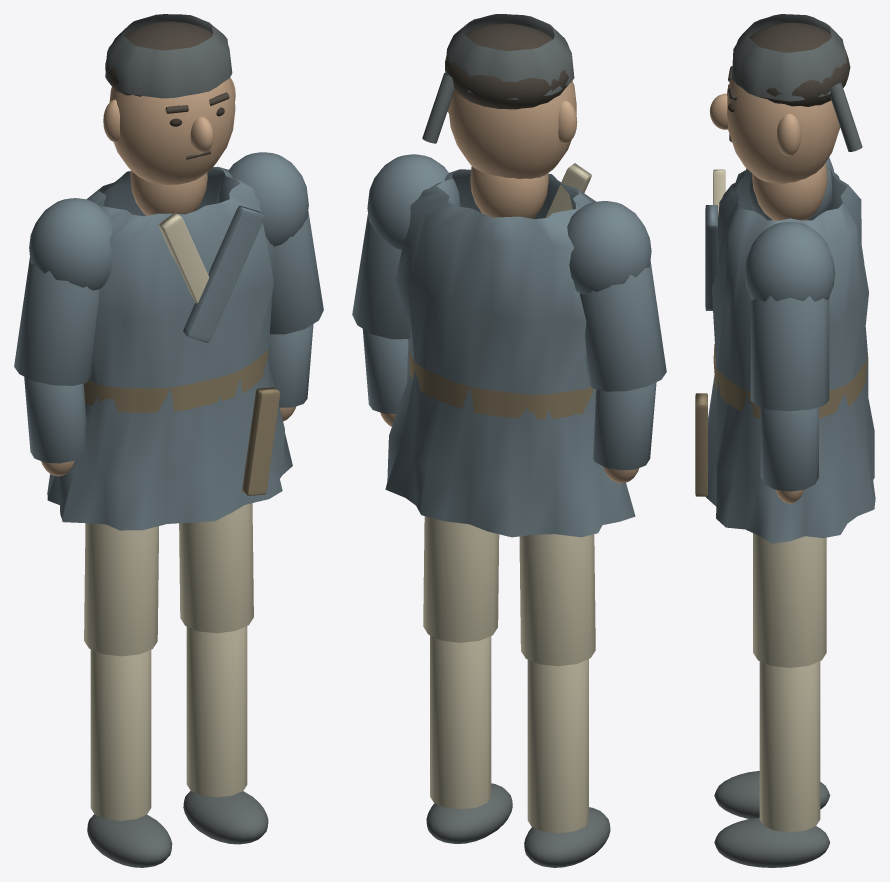
The model's file is man.glb.
The picture shows the model from 3 angles, left to right: view 1: azimuth 30°, elevation 25°; view 2: azimuth 150°, elevation 25°; view 3: azimuth 270°, elevation 25°; orthographic projection.
Visible parts, largest first — view 1: Cross-collar working coat, shin, shin.001, thigh, thigh.001, Face, upper, Soft cloth cap, Shoulder, Shoulder.001, fore, upper.001 (+10 smaller); view 2: Cross-collar working coat, shin, shin.001, thigh, thigh.001, upper, Face, Shoulder, Soft cloth cap, Hair crown, Shoulder.001, fore (+9 smaller); view 3: Cross-collar working coat, shin.001, thigh.001, upper.001, Face, Shoulder.001, Soft cloth cap, fore.001, Cloth shoe.001, Hair crown, Neck, Cloth shoe (+8 smaller).
Boxes of the visible parts, left/top/right/bottom form: Cross-collar working coat: left=47, top=166, right=292, bottom=530; shin: left=90, top=649, right=151, bottom=820; shin.001: left=186, top=626, right=247, bottom=797; thigh: left=84, top=523, right=158, bottom=656; thigh.001: left=179, top=503, right=253, bottom=633; Face: left=109, top=77, right=235, bottom=184; upper: left=14, top=258, right=99, bottom=385; Soft cloth cap: left=105, top=14, right=232, bottom=98; Shoulder: left=29, top=198, right=112, bottom=290; Shoulder.001: left=217, top=152, right=308, bottom=246; fore: left=24, top=376, right=86, bottom=463; upper.001: left=269, top=211, right=323, bottom=334; Cross-collar working coat: left=385, top=169, right=635, bottom=537; shin: left=527, top=659, right=588, bottom=833; shin.001: left=430, top=635, right=491, bottom=809; thigh: left=519, top=534, right=595, bottom=666; thigh.001: left=423, top=516, right=499, bottom=642; upper: left=579, top=261, right=666, bottom=391; Face: left=448, top=81, right=576, bottom=178; Shoulder: left=567, top=201, right=651, bottom=294; Soft cloth cap: left=446, top=14, right=574, bottom=99; Hair crown: left=445, top=23, right=568, bottom=109; Shoulder.001: left=367, top=154, right=460, bottom=249; fore: left=593, top=382, right=656, bottom=470; Cross-collar working coat: left=706, top=167, right=875, bottom=543; shin.001: left=759, top=661, right=820, bottom=832; thigh.001: left=753, top=533, right=826, bottom=667; upper.001: left=750, top=295, right=829, bottom=411; Face: left=727, top=76, right=840, bottom=183; Shoulder.001: left=744, top=221, right=835, bottom=301; Soft cloth cap: left=731, top=14, right=847, bottom=101; fore.001: left=760, top=407, right=818, bottom=491; Cloth shoe.001: left=714, top=817, right=829, bottom=867; Hair crown: left=749, top=22, right=850, bottom=106; Neck: left=752, top=163, right=827, bottom=220; Cloth shoe: left=714, top=771, right=830, bottom=818.
Size of the model in its own units: 0.6841 by 1.77 by 0.3575.
